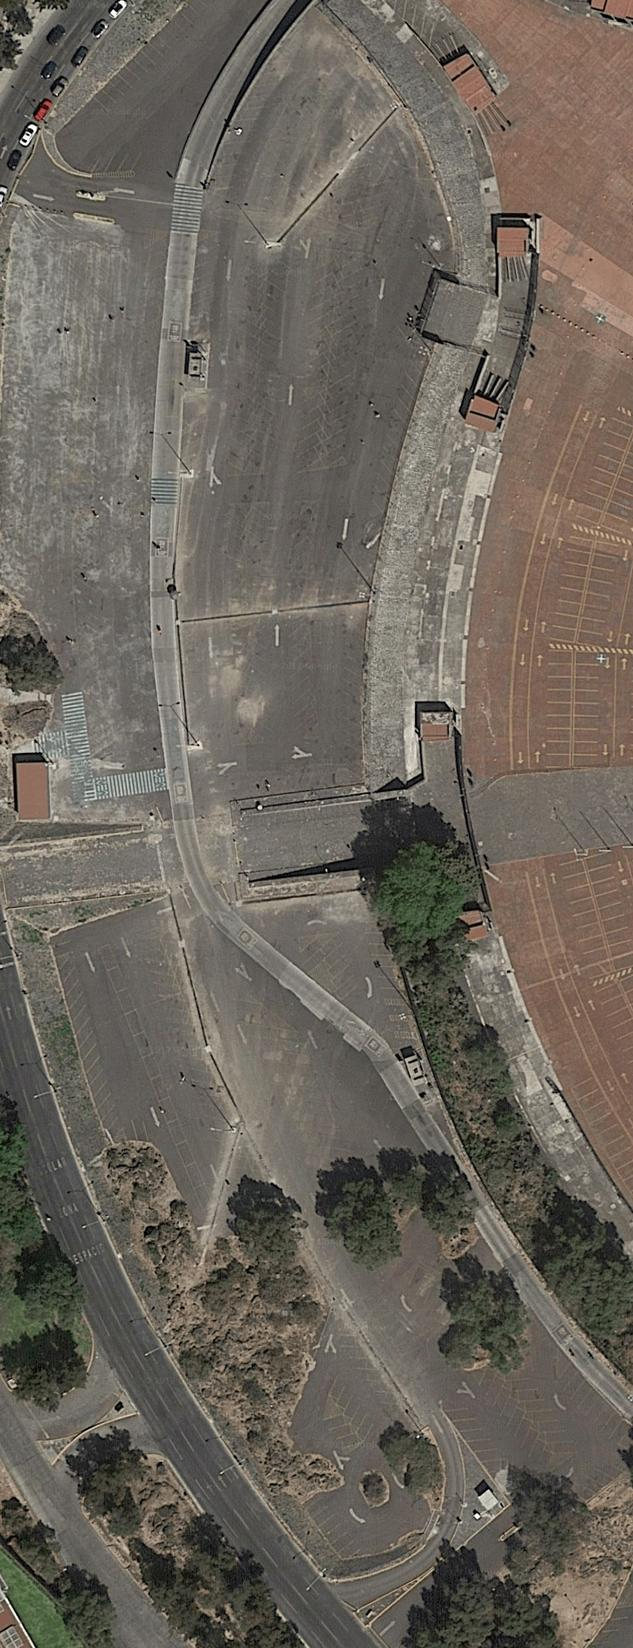parkingspot: (97, 943, 216, 1213), (57, 950, 126, 1141), (91, 1, 204, 114), (205, 60, 299, 192), (249, 255, 295, 475), (294, 257, 341, 475), (367, 358, 425, 532), (557, 850, 633, 982), (320, 254, 365, 469), (477, 1368, 555, 1472), (544, 648, 603, 771), (553, 1360, 633, 1447), (131, 238, 170, 414), (573, 416, 633, 526), (569, 1075, 633, 1172), (509, 1377, 581, 1454), (548, 535, 595, 645), (575, 539, 622, 648), (336, 1334, 402, 1406), (286, 621, 321, 742), (441, 1407, 509, 1467), (305, 1496, 363, 1561), (339, 629, 366, 758), (327, 1375, 376, 1445), (362, 931, 411, 1001), (600, 439, 633, 536), (320, 930, 361, 1003), (189, 231, 224, 315), (565, 1459, 627, 1500), (288, 510, 315, 585), (593, 981, 633, 1031), (402, 0, 437, 50), (243, 507, 273, 559), (321, 1414, 362, 1451), (89, 150, 143, 174), (298, 939, 327, 977), (50, 939, 76, 959), (130, 1118, 150, 1144), (383, 1005, 410, 1017), (388, 1021, 415, 1033)
